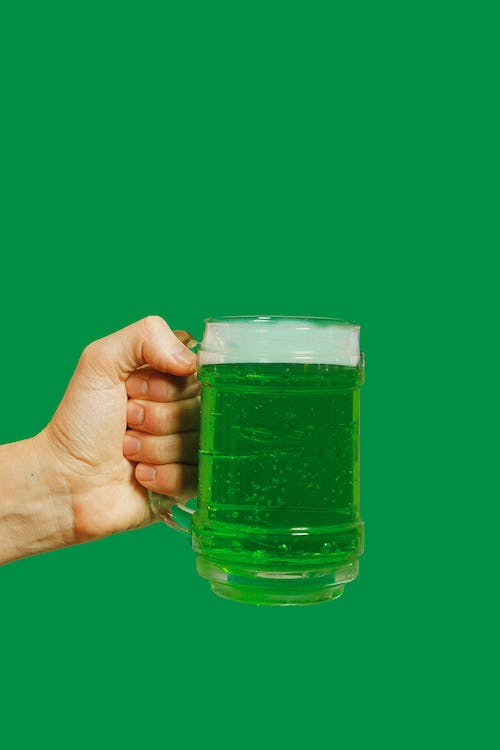alcohol: (146, 314, 367, 607)
